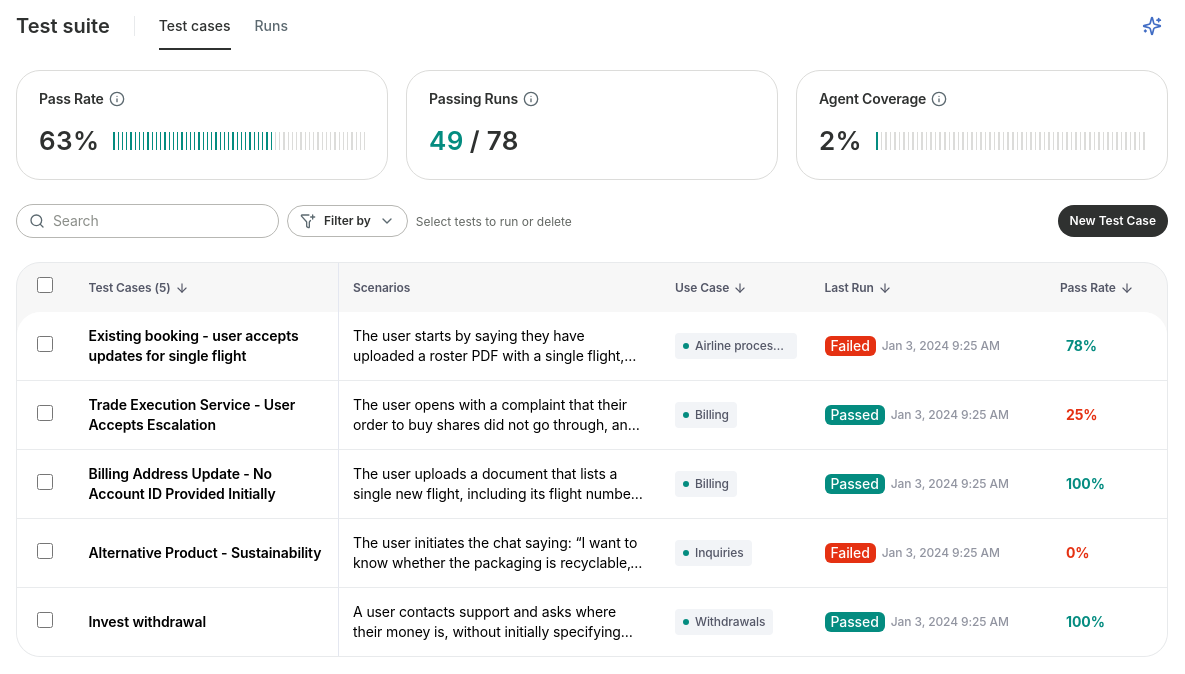
Test: TestSuiteView › select-all checks every row, and clicking it again clears them
This screenshot has width=1185, height=674.
Click the checkbox named "Select all test cases".
click(45, 285)  # box [37,277,53,293]
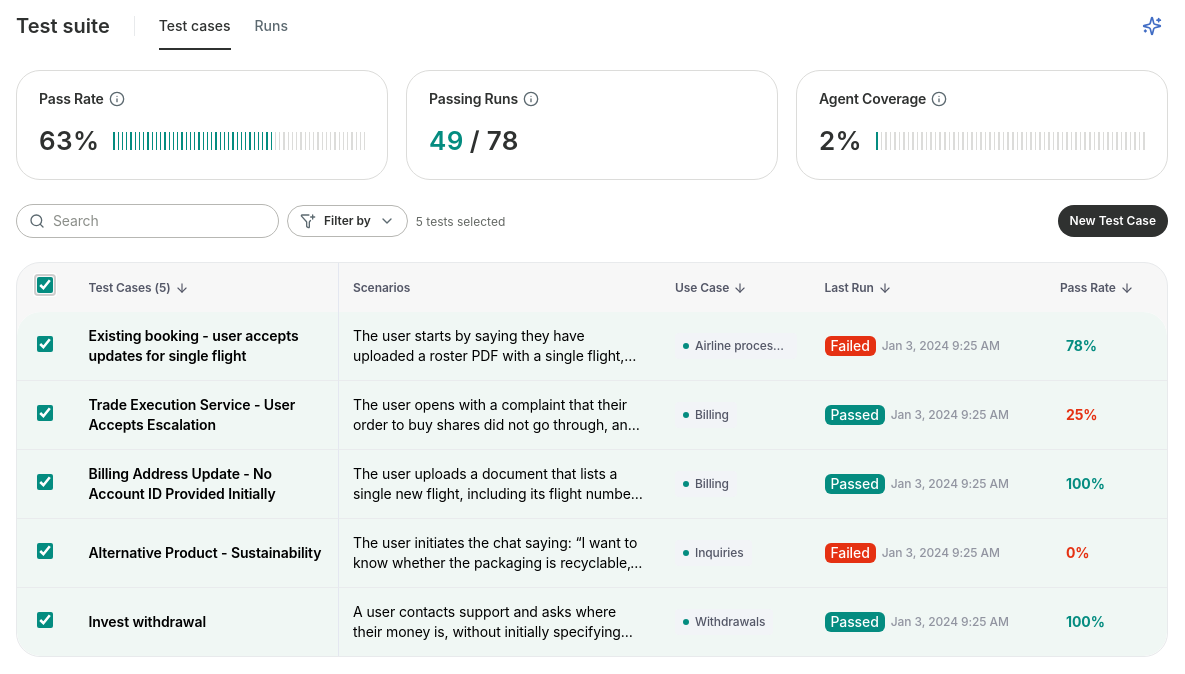
Click the checkbox named "Select all test cases".
click(45, 285)  # box [37,277,53,293]
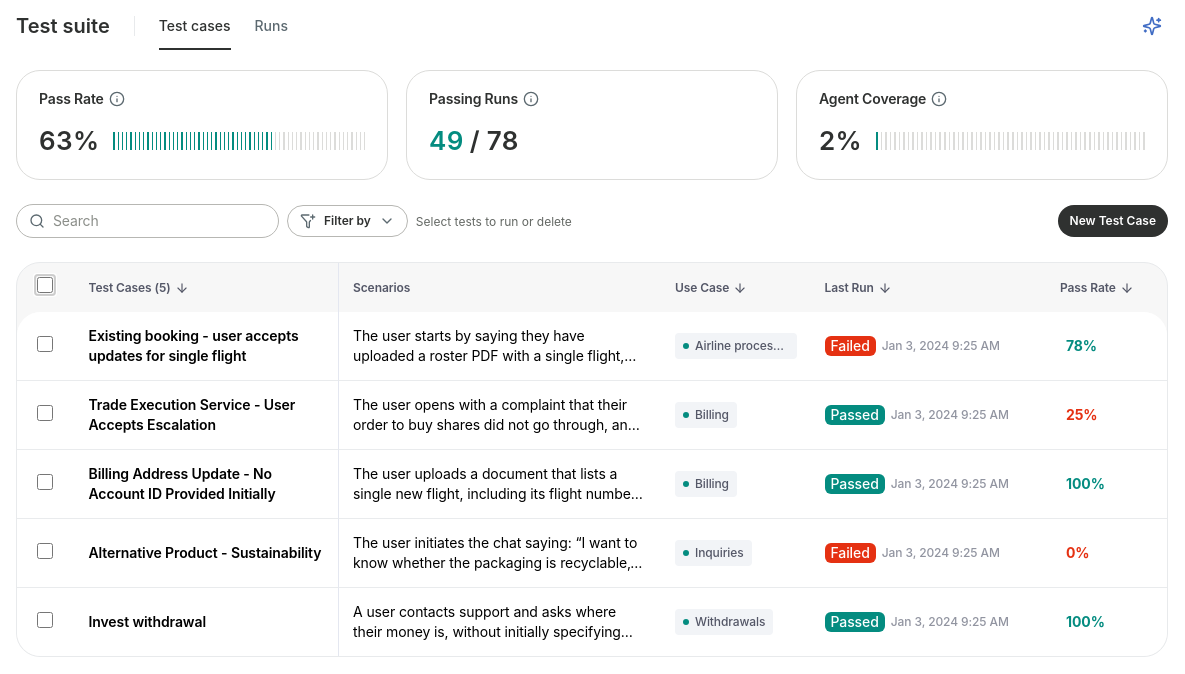
Expected: the text "Select tests to run or delete" is shown, [416,212,572,230]
